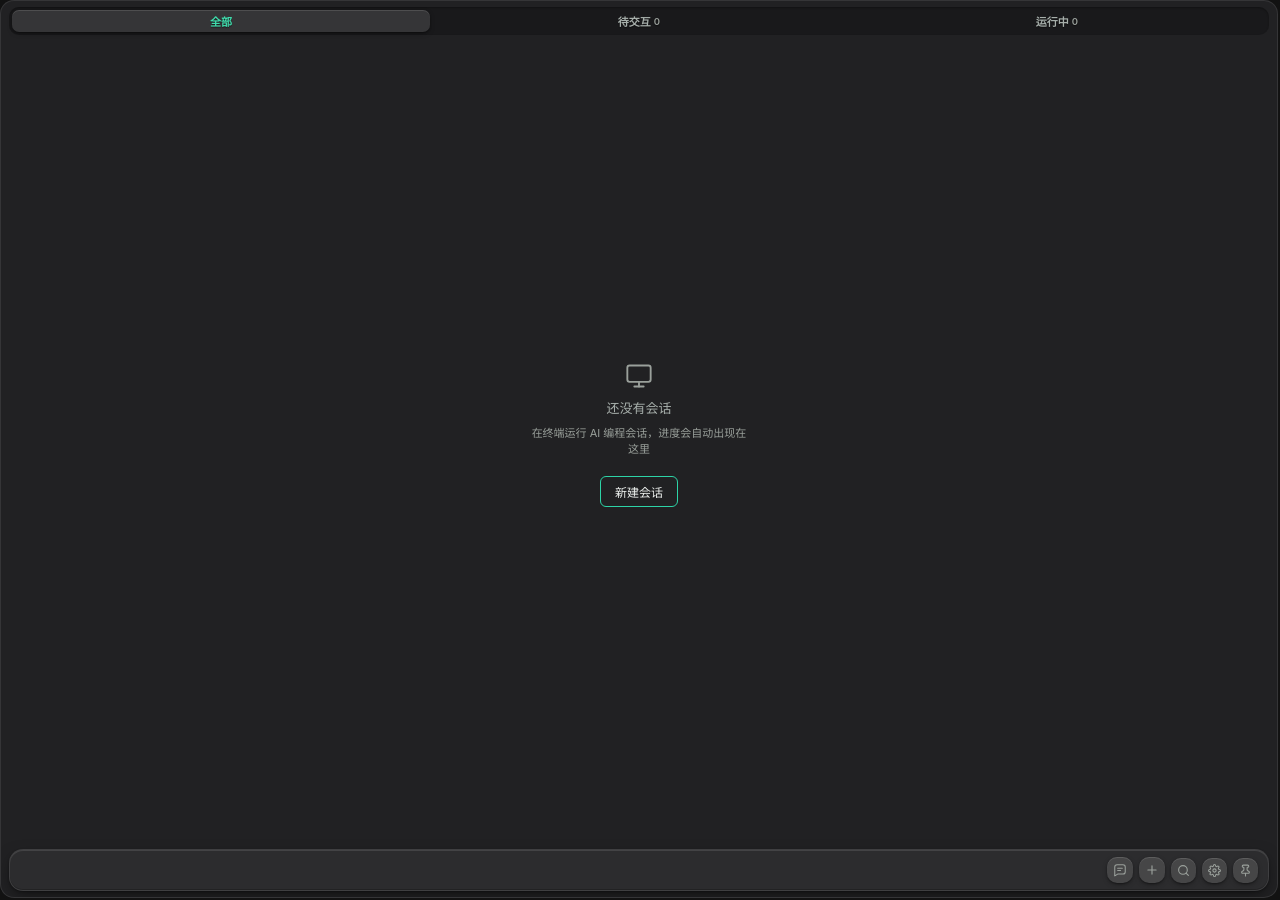
macOS 面板的 pin（W-12：保持打开） › 面板模式渲染 pin 按钮，语义为「保持打开」并把偏好推给后端 resign 监听器
Click the button named "保持打开（失焦不自动收起）": (1246, 870) top-left (1233, 858), bottom-right (1258, 882)
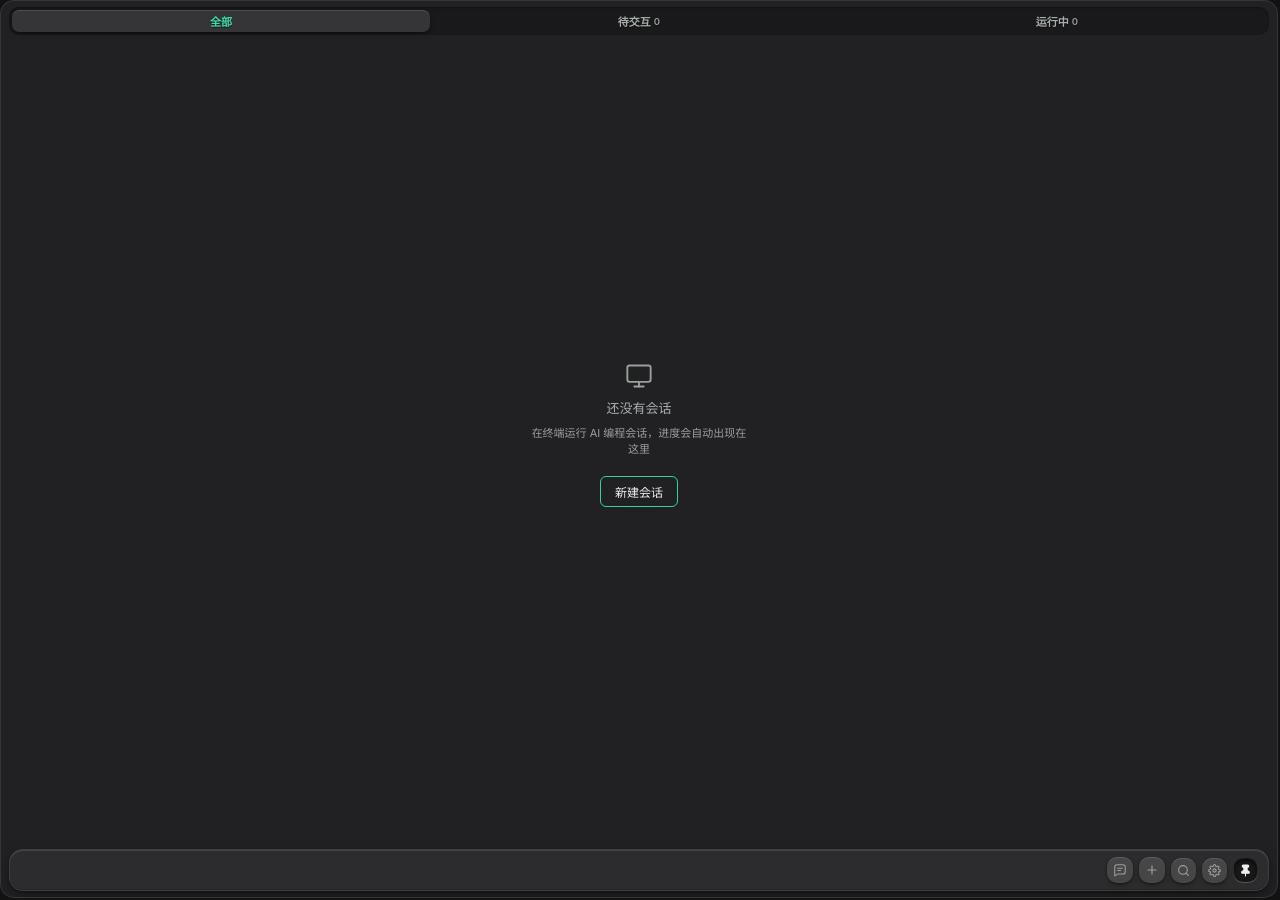
Result: the button named "取消保持打开" is shown at top-left (1233, 858), bottom-right (1258, 882)
